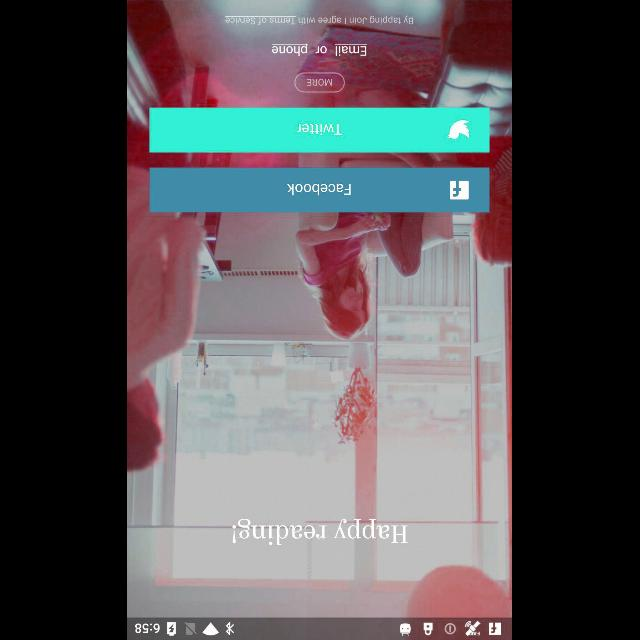backgroundimage: (128, 0, 512, 618)
text: (233, 518, 409, 546), (226, 15, 414, 25), (272, 44, 308, 56), (336, 44, 368, 56), (316, 46, 328, 54)
textbutton: (150, 168, 490, 212), (150, 108, 490, 152), (295, 72, 345, 92)
uppertaskbar: (128, 617, 512, 639)
